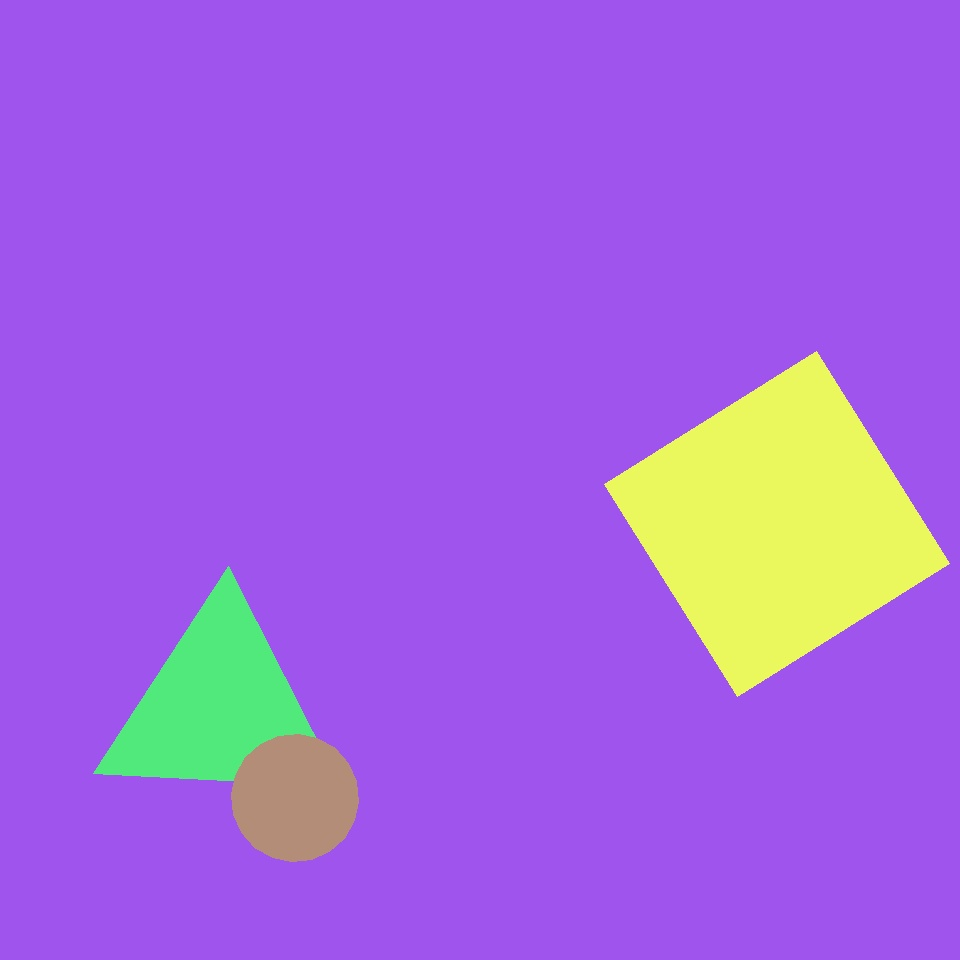circle: (98, 599, 344, 819)
square: (604, 351, 950, 696)
triangle: (232, 734, 359, 862)
